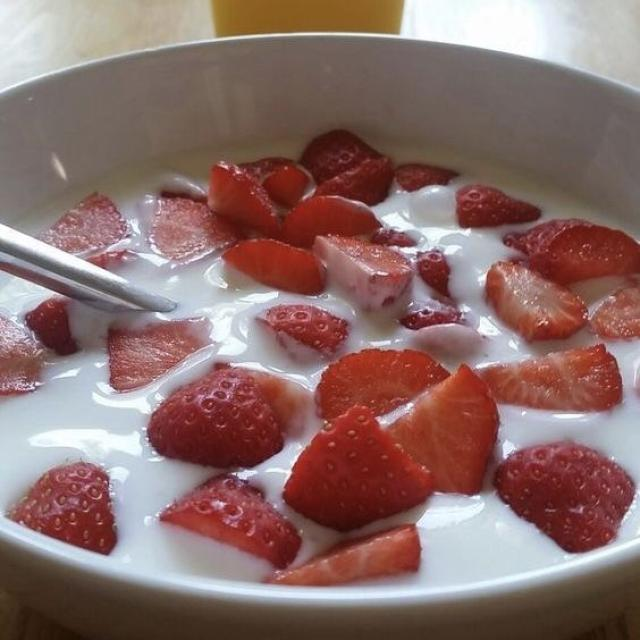strawberry sliced: (284, 407, 433, 531), (495, 442, 635, 552), (390, 366, 499, 494), (148, 367, 283, 467), (160, 475, 300, 568), (7, 462, 116, 554), (478, 344, 621, 411), (316, 349, 449, 419), (268, 525, 420, 586), (505, 220, 639, 283), (485, 261, 587, 341), (107, 318, 209, 391), (314, 237, 413, 309), (223, 239, 325, 295), (150, 198, 241, 260), (40, 193, 128, 254), (208, 163, 280, 236), (233, 367, 314, 431), (283, 196, 381, 247), (258, 305, 348, 356), (301, 130, 381, 184), (251, 372, 314, 432), (315, 158, 393, 205), (457, 184, 541, 226), (0, 315, 43, 396), (25, 298, 78, 355), (591, 284, 639, 339), (264, 164, 309, 207), (400, 300, 464, 330), (395, 164, 459, 191), (417, 248, 450, 297), (239, 157, 295, 183), (87, 250, 138, 270), (370, 227, 417, 247), (159, 190, 206, 204)
